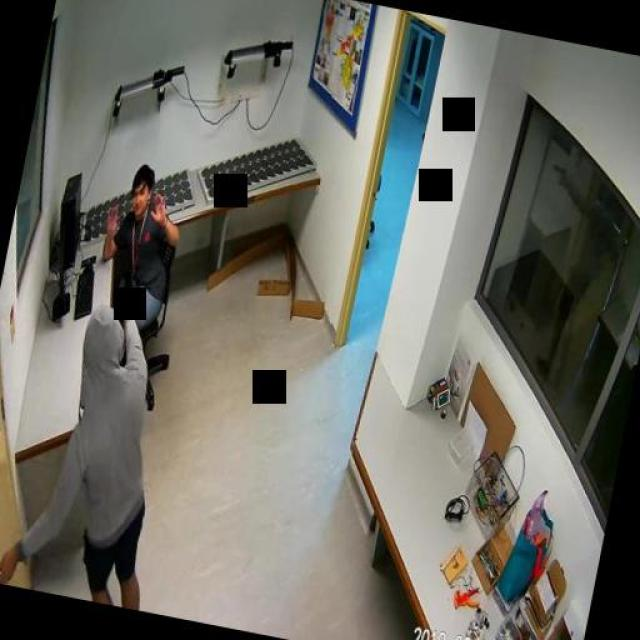gun: (112, 275, 136, 315)
